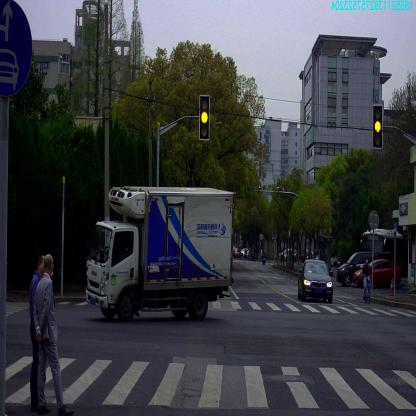traffic-light: (199, 96, 209, 140), (373, 104, 382, 147)
